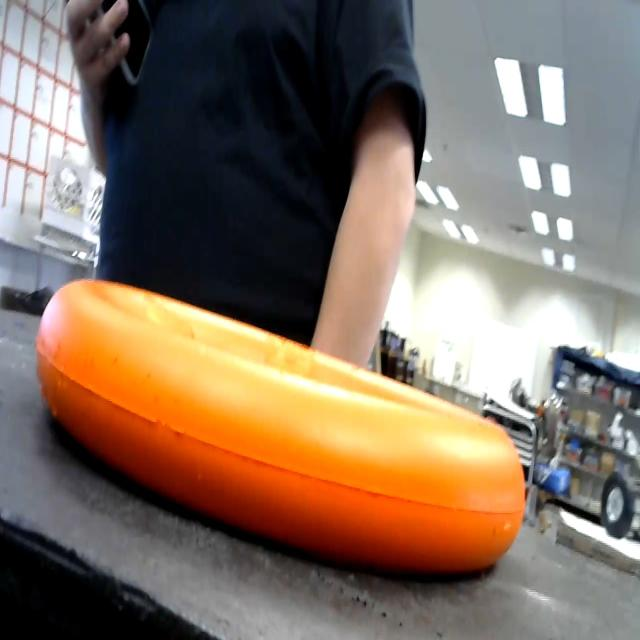note: (21, 257, 536, 566)
